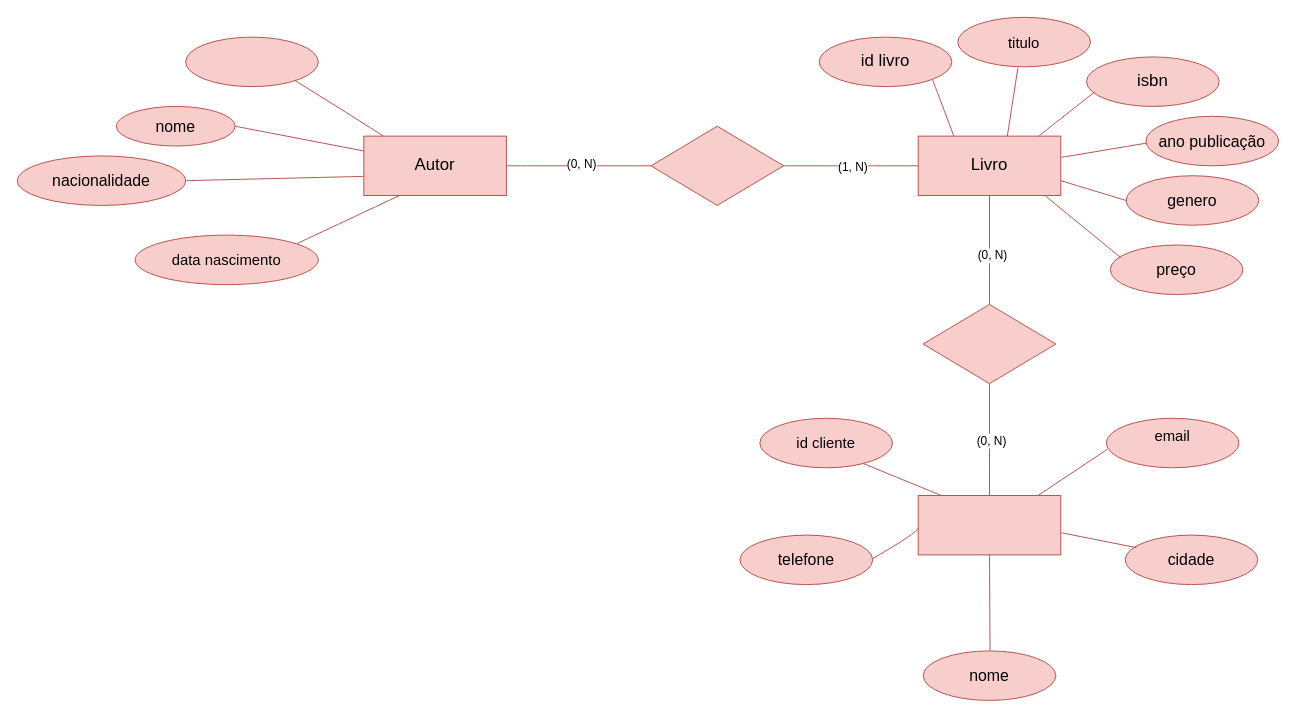
This 1296x718 diagram has some shape labels left out. The centre of each missing label's shape, as x and y in pixels:
Cliente: the point at 989,525
compra: the point at 989,343
escreve: the point at 717,165
id autor: the point at 251,61
